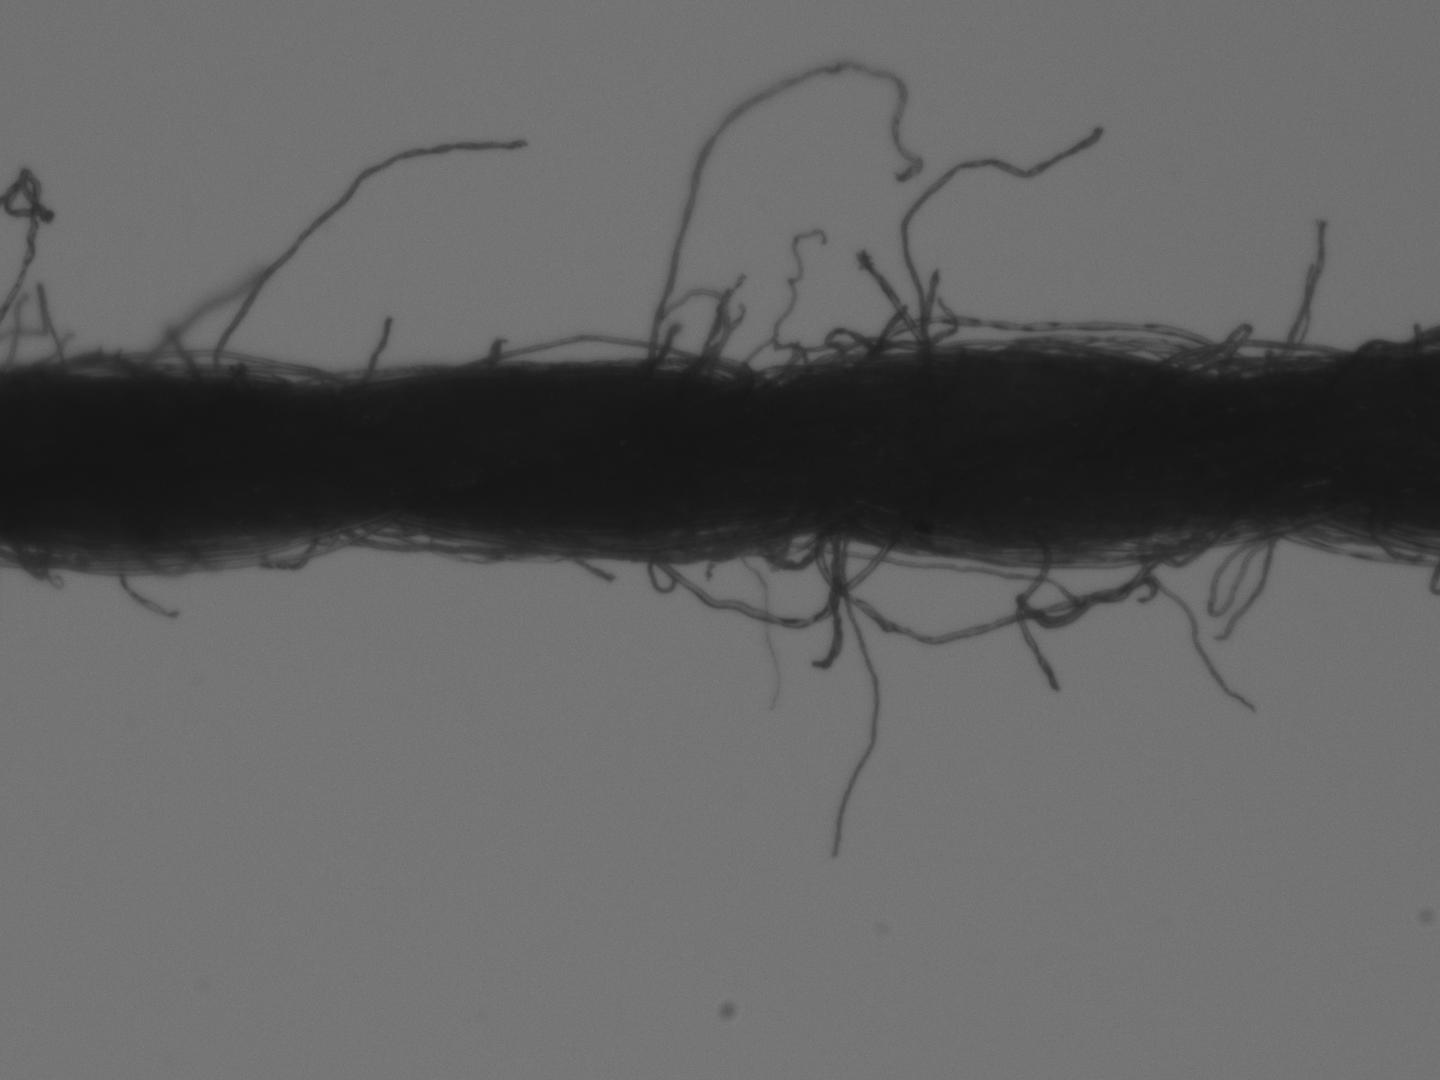loop_fiber: (816, 521, 1222, 650), (641, 520, 888, 623), (444, 331, 719, 376), (1160, 335, 1352, 383), (337, 513, 522, 559), (652, 287, 728, 365), (748, 524, 829, 569), (50, 347, 152, 379), (1289, 516, 1386, 545), (858, 338, 968, 360), (10, 537, 54, 587)
protruding_fiber: (647, 59, 918, 362), (214, 133, 528, 368), (897, 124, 1110, 354), (813, 531, 883, 860), (1138, 554, 1254, 710), (1215, 535, 1276, 646), (112, 551, 184, 625), (808, 529, 842, 678), (355, 311, 396, 391)
